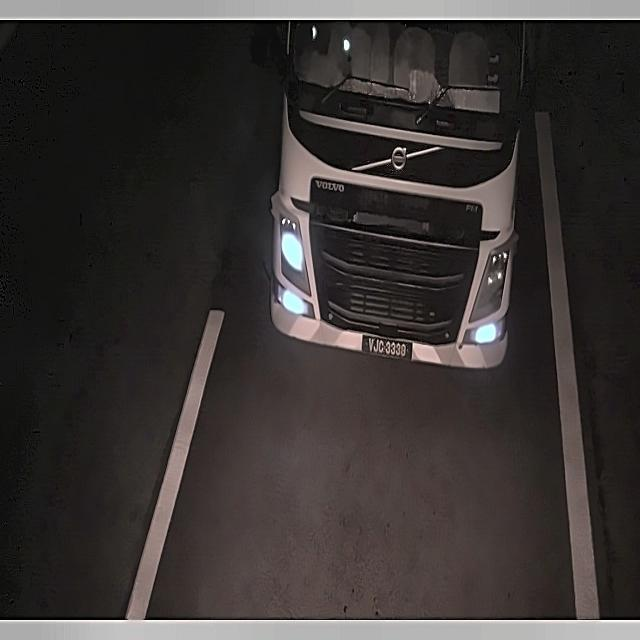car: (358, 330, 415, 367)
